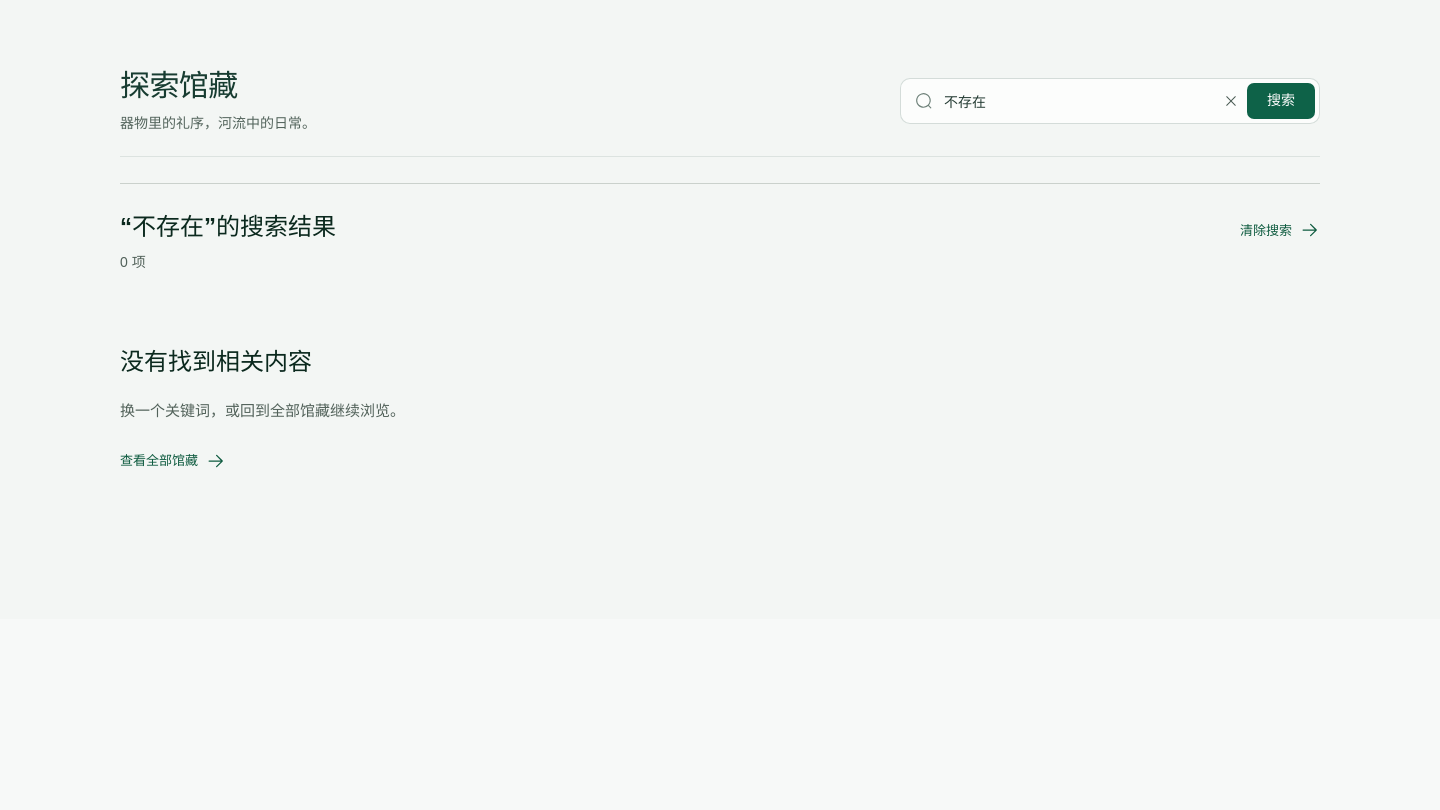
Test: Explore gallery presentation and recovery › offers a way back from an empty search without losing the search term
Expected: the search field named "搜索文物或文章" holds "不存在", [944,83,1215,119]
Expected: the element with class "collection-state--empty" shows "没有找到相关内容", [120,349,312,375]
Click the button "查看全部馆藏" at (173, 461), box [120,439,226,483]
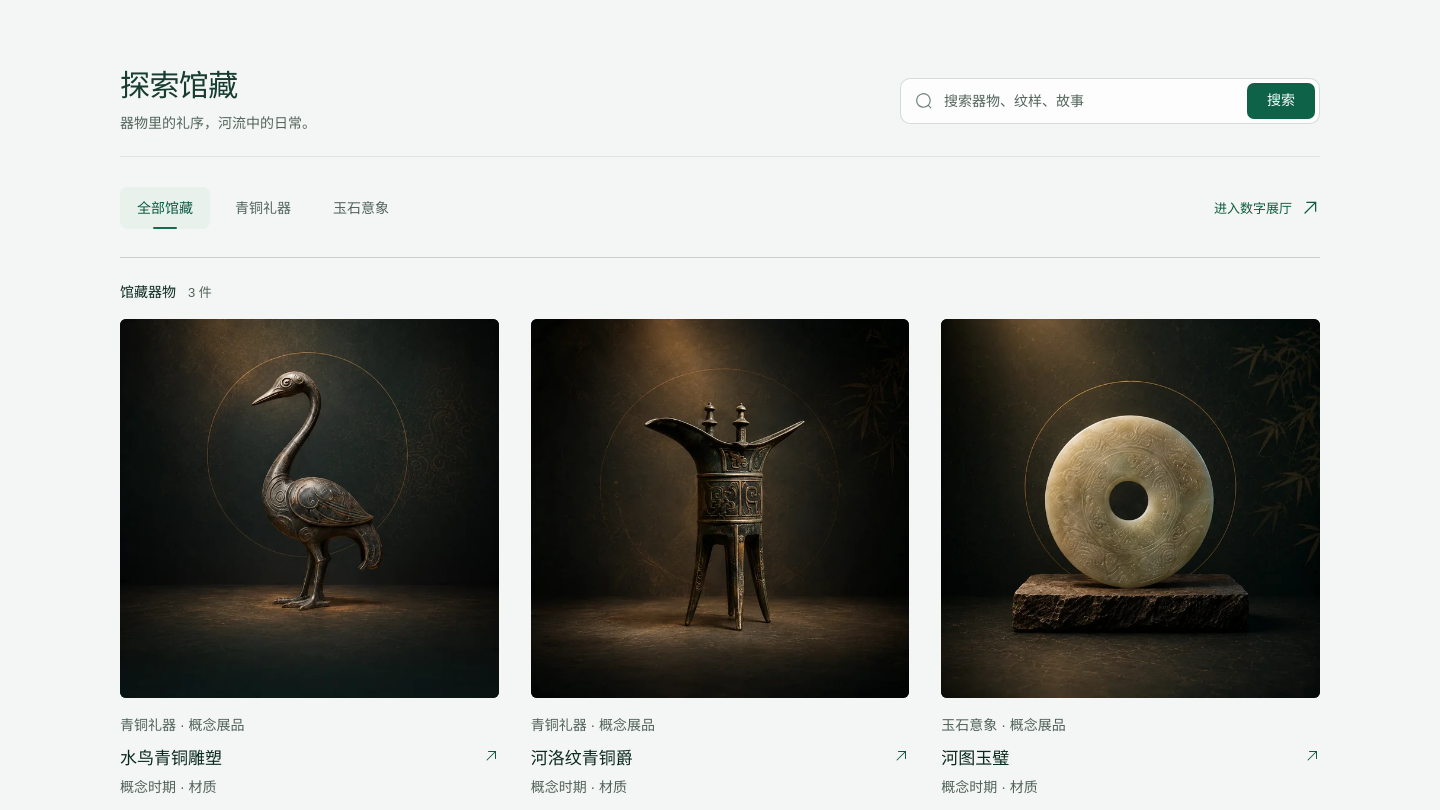
Now the number of links with class "gallery-object" is 3, box [120,319,499,799]; [531,319,909,799]; [941,319,1320,799]
